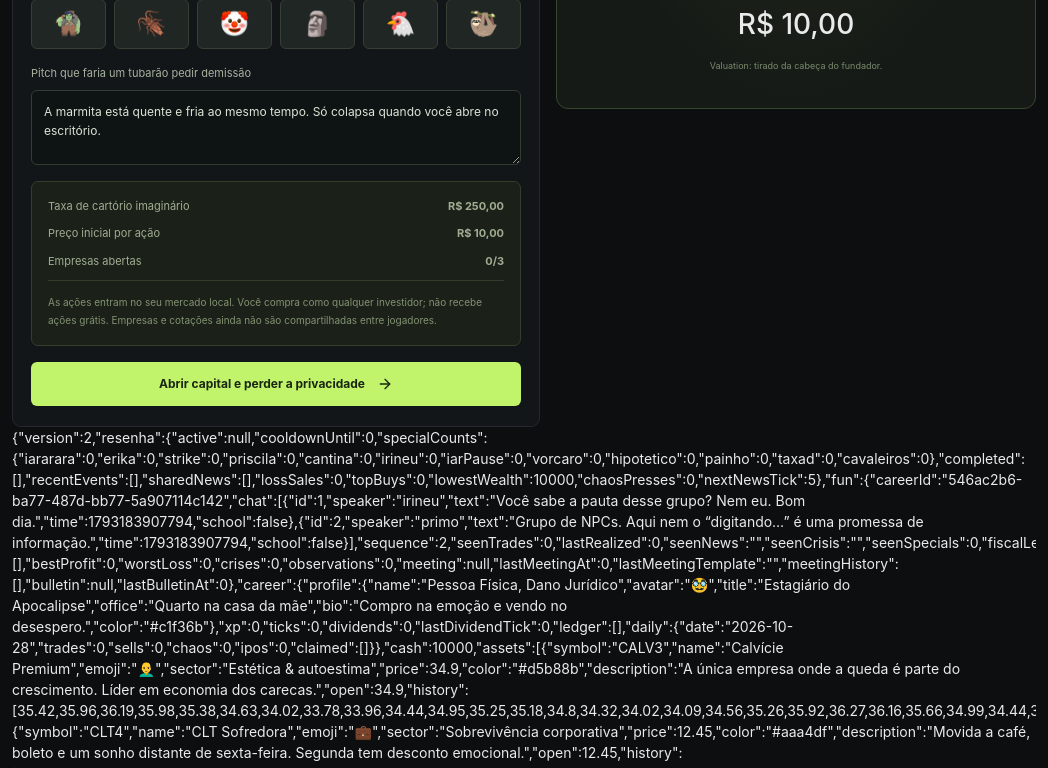
it: fluxos da expansão › abre empresa pelo formulário e exibe o ativo no mercado local
(page scrolled)
Click the button "Abrir capital e perder a privacidade" at (276, 384), box [31,362,521,406]
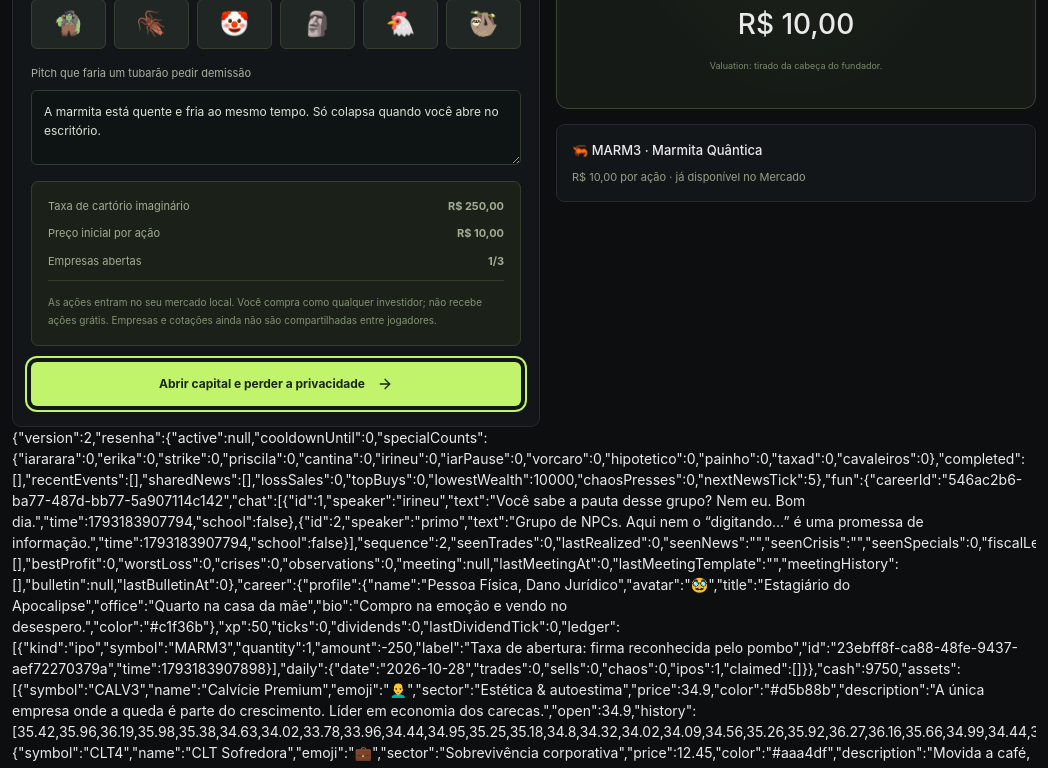
Now the heading "🦐 MARM3 · Marmita Quântica" is shown, box [572,142,762,158]
Click the button "Abrir capital e perder a privacidade" at (276, 384), box [31,362,521,406]
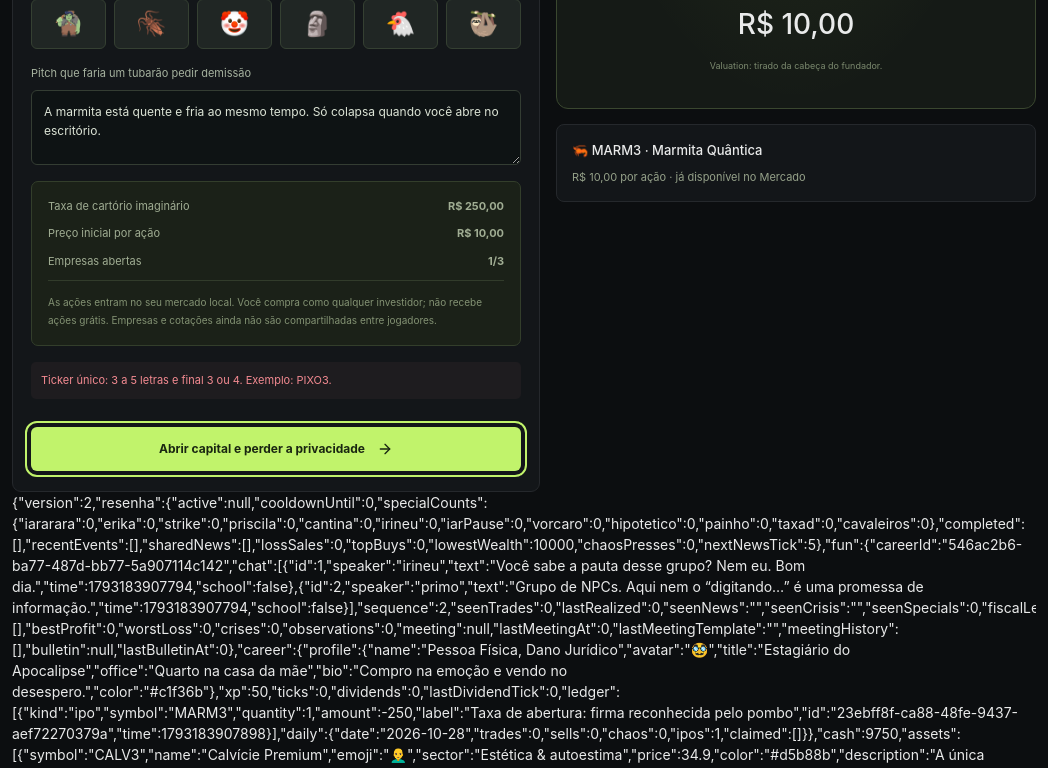
Now the message shows "Ticker único", box [41,373,332,387]
